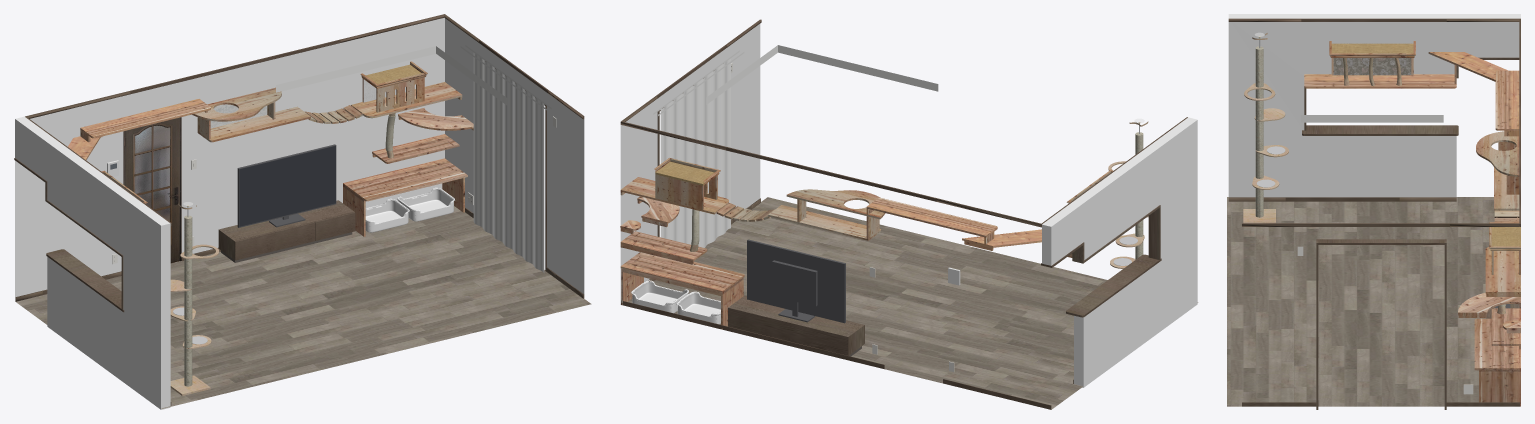
3 views of the same model, side by side, from view 1: azimuth 30°, elevation 25°; view 2: azimuth 150°, elevation 25°; view 3: azimuth 270°, elevation 25° (orthographic).
Visible parts, largest first — view 1: 部屋, カーテン_レース; view 2: 部屋, カーテン_レース; view 3: 部屋.
Part boxes in pixels (<box>): 部屋: <box>14,14,591,409</box>; カーテン_レース: <box>473,53,544,273</box>; 部屋: <box>620,19,1198,409</box>; カーテン_レース: <box>660,58,730,247</box>; 部屋: <box>1227,14,1520,409</box>.
Size of the model in its own units: 6.01 by 2.52 by 3.5.
31 materials, 15 textured.
